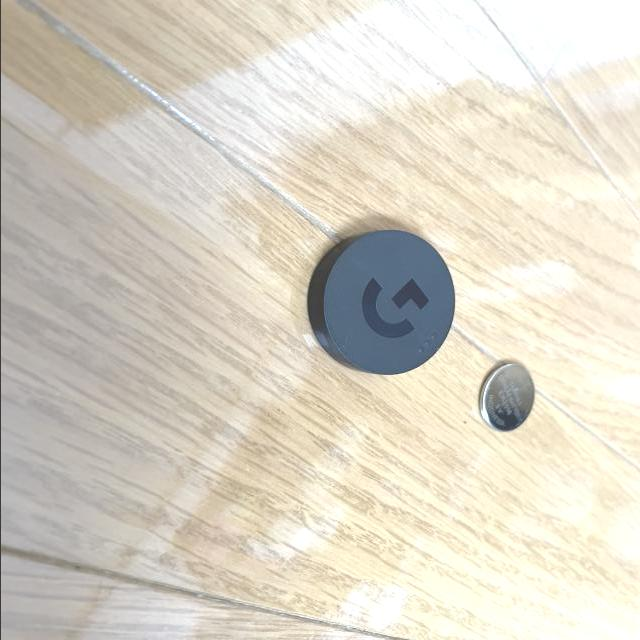COIN: (478, 363, 535, 432)
